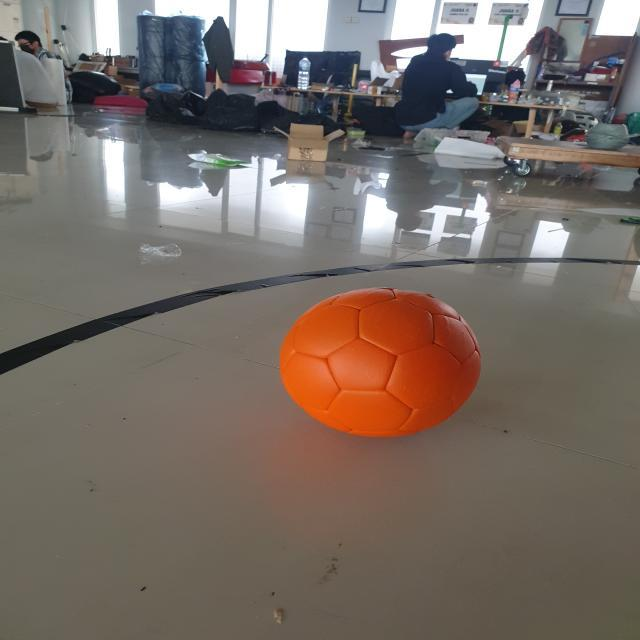bola: (276, 284, 489, 444)
